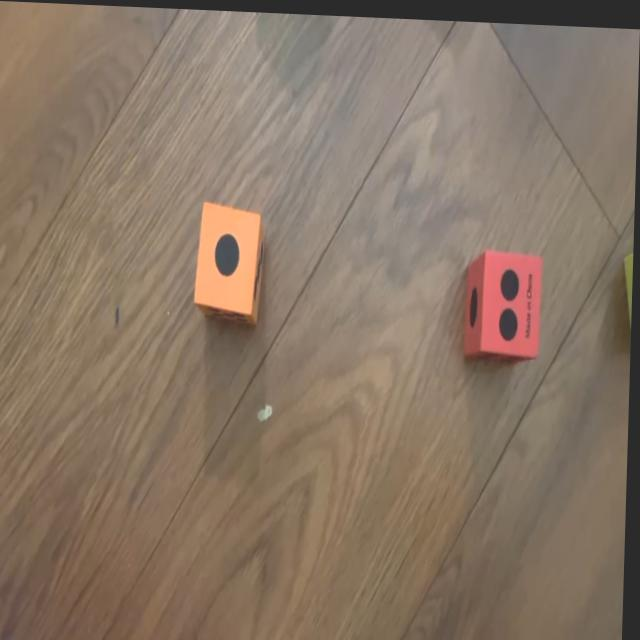cube: (464, 245, 542, 359)
